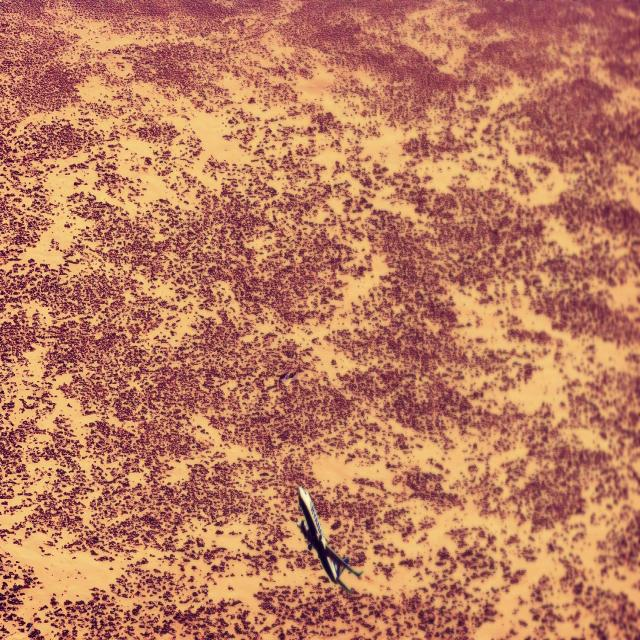airplane: (296, 485, 363, 591)
